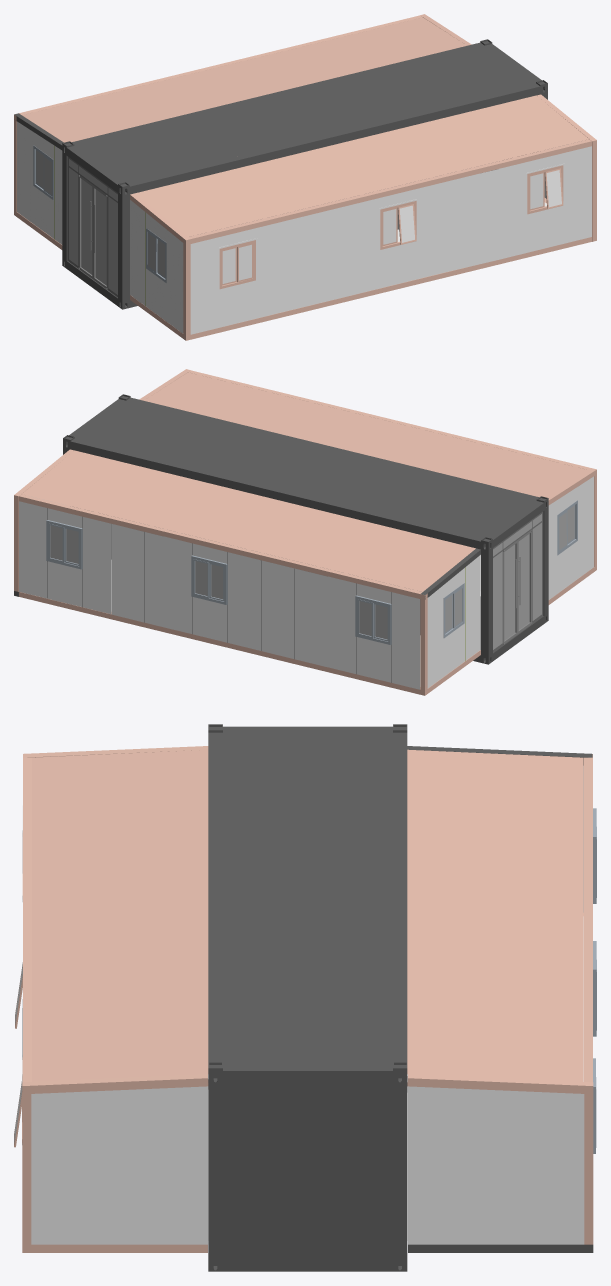
Rendered from ExpansionBox1185314322.glb.
3 views of the same model, one above another, from view 1: azimuth 30°, elevation 25°; view 2: azimuth 150°, elevation 25°; view 3: azimuth 270°, elevation 25° (orthographic). The views are drawn at different scales.
Parts seen in each view (by area): view 1: Group191, Group122, Group162, Group181, Group204, Group198, Group192, Group123, Group241, Group247, Group186, Group189 (+24 smaller); view 2: Group162, Group122, Group169, Group191, Group163, Group175, Group124, Group247, Group241, Group157, Group160, Group228 (+17 smaller); view 3: Group122, Group162, Group191, Group153, Group182, Group123, Group124, Group151, Group157, Group186, Group140, Group148 (+10 smaller).
Part boxes in pixels (box(x1,y1,x2,y2)): Group191: box(135, 95, 588, 236); Group122: box(75, 45, 535, 271); Group162: box(22, 17, 466, 142); Group181: box(284, 169, 498, 311); Group204: box(190, 221, 284, 334); Group198: box(498, 146, 591, 259); Group192: box(351, 182, 445, 295); Group123: box(127, 83, 540, 194); Group241: box(130, 200, 183, 333); Group247: box(17, 121, 62, 244); Group186: box(188, 139, 591, 243); Group189: box(190, 237, 591, 339); Group162: box(22, 450, 475, 591); Group122: box(75, 400, 535, 649); Group169: box(111, 524, 327, 667); Group191: box(144, 372, 588, 497); Group163: box(328, 576, 419, 689); Group175: box(19, 501, 110, 613); Group124: box(70, 438, 483, 549); Group247: box(427, 555, 480, 688); Group241: box(548, 476, 593, 599); Group157: box(19, 494, 422, 598); Group160: box(19, 592, 420, 694); Group228: box(493, 514, 541, 649); Group122: box(223, 732, 392, 1258); Group162: box(407, 749, 583, 1081); Group191: box(32, 749, 208, 1081); Group153: box(407, 916, 584, 1244); Group182: box(31, 1074, 208, 1244); Group123: box(208, 732, 222, 1078); Group124: box(393, 732, 407, 1078); Group151: box(223, 1064, 392, 1083); Group157: box(584, 757, 592, 1082); Group186: box(23, 757, 31, 1082); Group140: box(208, 1079, 222, 1258); Group148: box(393, 1084, 407, 1258).
Size of the model in its own units: 90 by 24.8 by 64.43.
